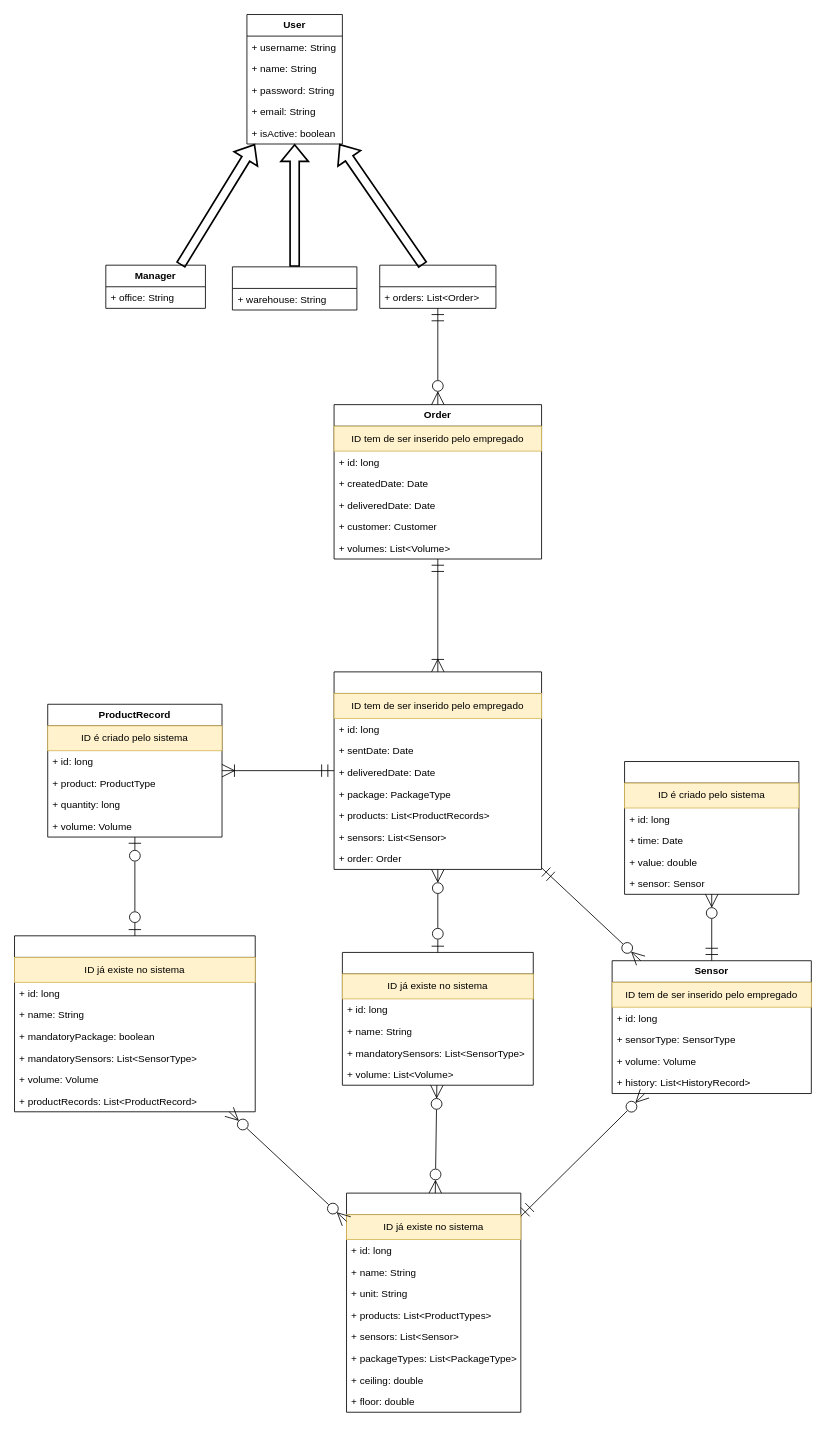
This 832x1429 diagram has some shape labels left out. Each missing label, with the box of its shape:
Customer: (379, 264, 496, 308)
Employee: (232, 266, 357, 310)
PackageType: (342, 952, 533, 1085)
ProductType: (14, 935, 255, 1112)
SensorRecord: (624, 761, 799, 894)
SensorType: (346, 1192, 521, 1412)
Volume: (333, 671, 542, 869)
